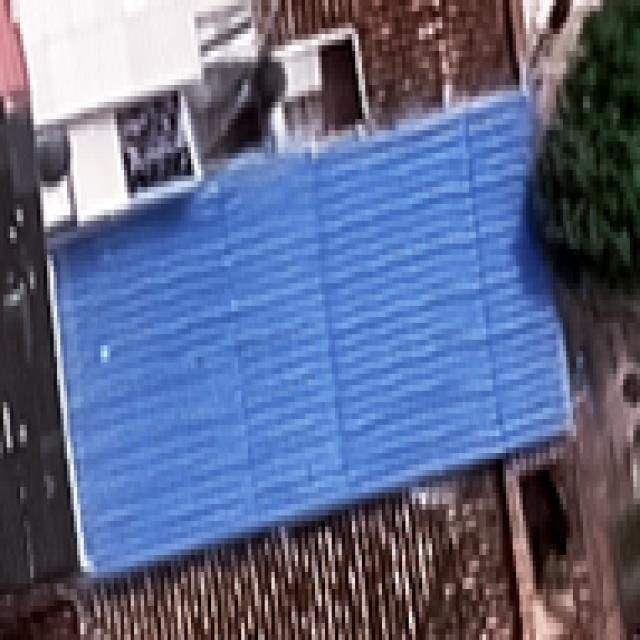Batiment: (56, 93, 564, 572)
